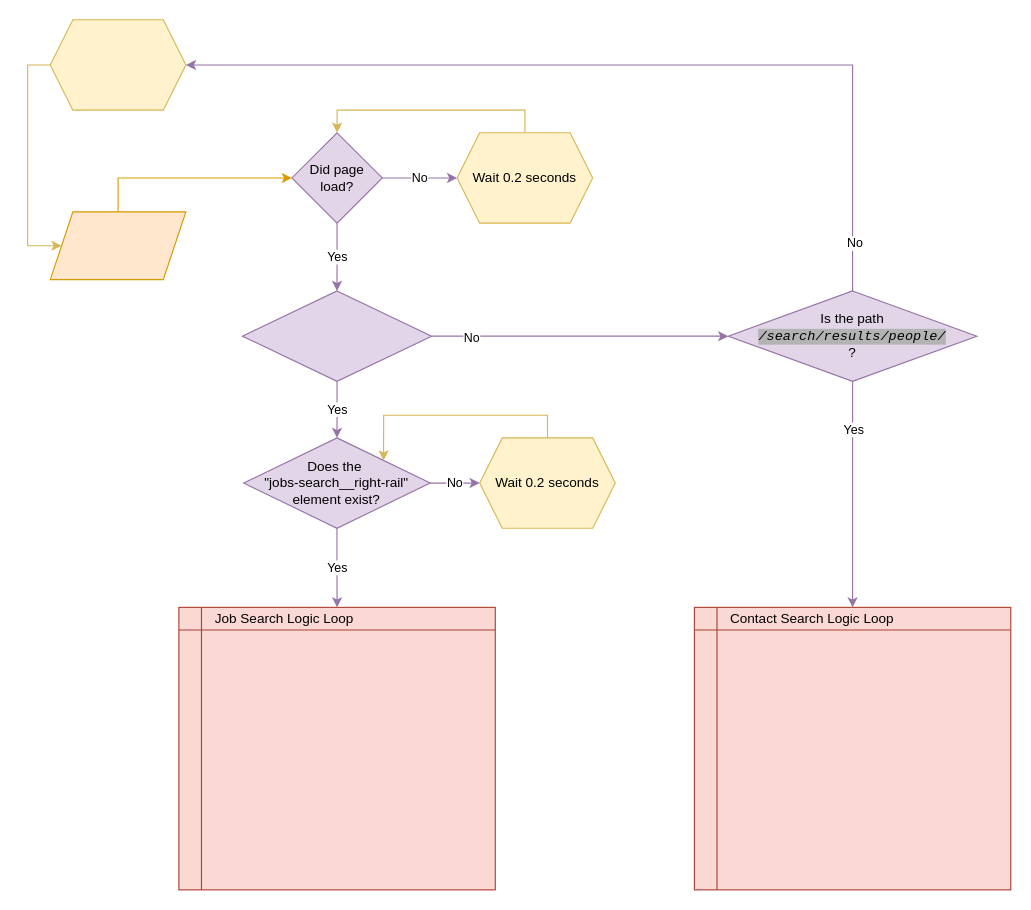
Some shapes in this 1031 by 910 pixel diagram are drawn without their labels. The shapes that lost their labels are listed below. From the top down, each one's centre as x and y in pixels, then its label:
point (117, 64): Wait until next page load
point (117, 245): Page is changed
point (336, 335): Is the path /jobs/ ?
